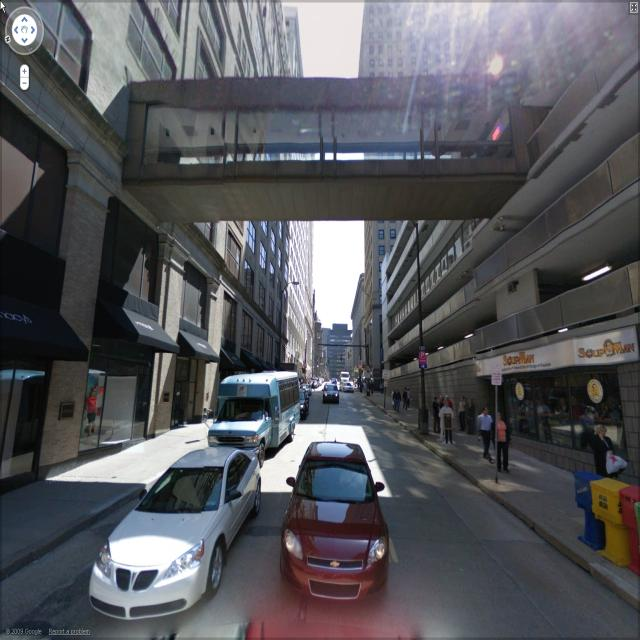b_1: (394, 6, 640, 412), (5, 1, 226, 387), (362, 9, 452, 394), (238, 215, 288, 379), (289, 214, 321, 375)
